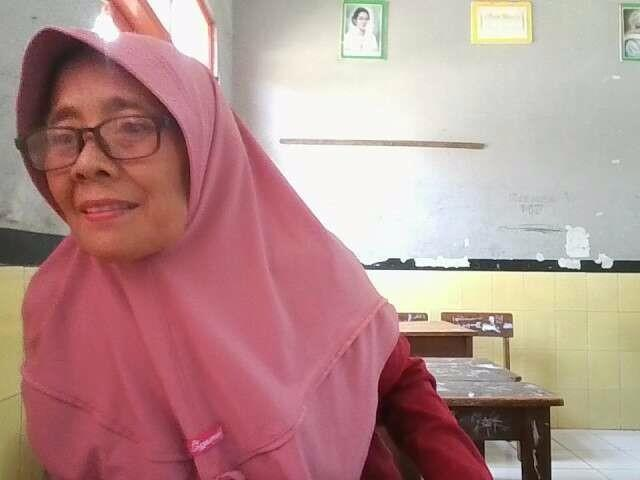cheating: (7, 14, 508, 480)
